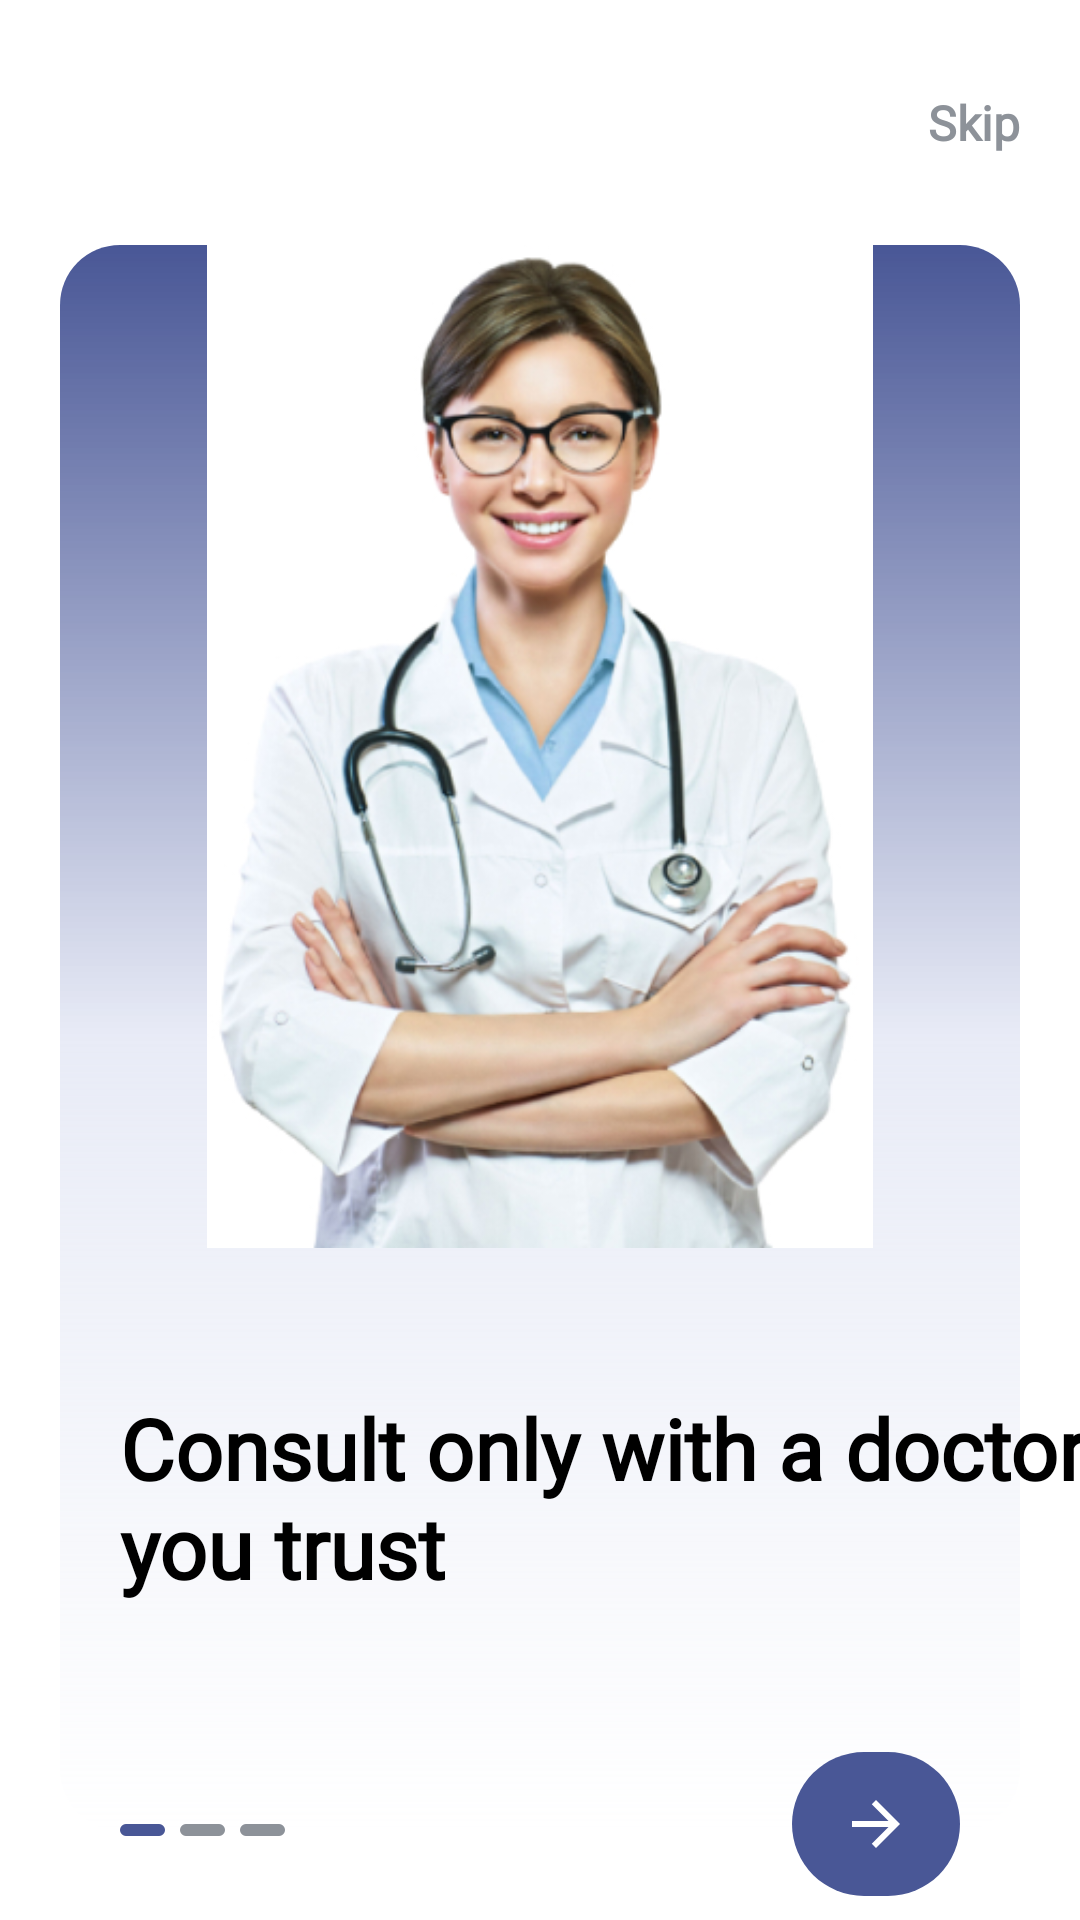

Locate icon controls on the screen. Image size 1080x1920, boxes as bbox=[x1, y1, x2, y2].
arrow next: bbox=[852, 1800, 900, 1848]
